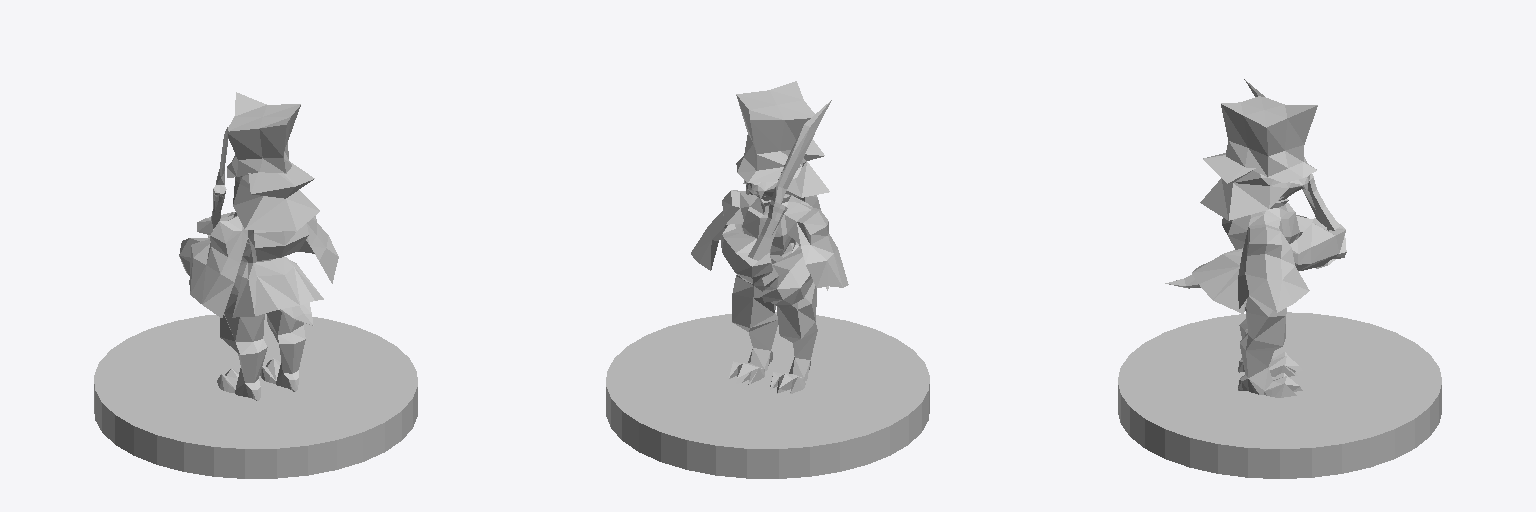
The model's file is low_poly_cute_kob03.obj.
3 renders of one model, left to right at view 1: azimuth 30°, elevation 25°; view 2: azimuth 150°, elevation 25°; view 3: azimuth 270°, elevation 25°, orthographic.
Parts seen in each view (by area): view 1: Cylinder, Cube, Cube.002_Cube.003, Cube.003_Cube.001, Cube.004; view 2: Cylinder, Cube, Cube.002_Cube.003, Cube.003_Cube.001, Cube.004; view 3: Cylinder, Cube, Cube.002_Cube.003, Cube.003_Cube.001, Cube.004.
Part boxes in pixels (x1,y1,x2,y2): Cylinder: (94,314,417,478); Cube: (179,163,319,400); Cube.002_Cube.003: (189,212,338,317); Cube.003_Cube.001: (227,92,300,177); Cube.004: (211,127,228,228); Cylinder: (606,312,929,478); Cube: (721,139,829,393); Cube.002_Cube.003: (691,190,848,290); Cube.003_Cube.001: (736,81,814,182); Cube.004: (748,100,831,260); Cylinder: (1118,312,1441,478); Cube: (1165,153,1346,397); Cube.002_Cube.003: (1192,199,1309,313); Cube.003_Cube.001: (1221,96,1317,182); Cube.004: (1244,79,1339,230).
Bounding box in the file's own units: 2.1 × 2.2 × 2.1.